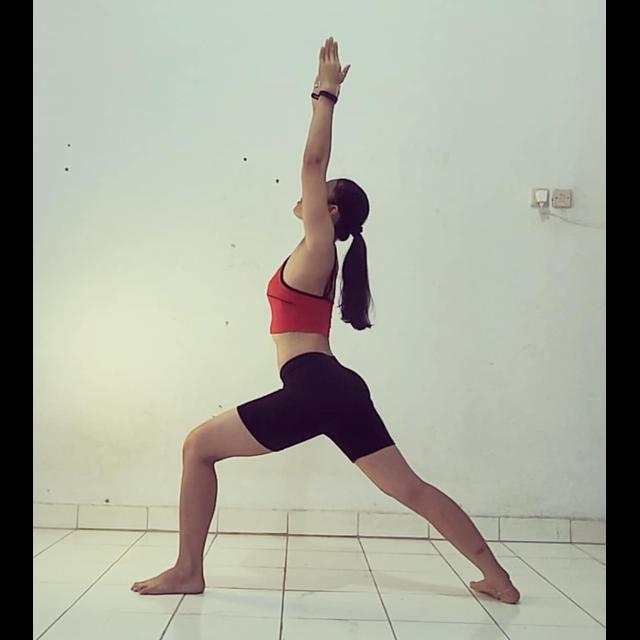Warrior_I: (129, 31, 528, 603)
